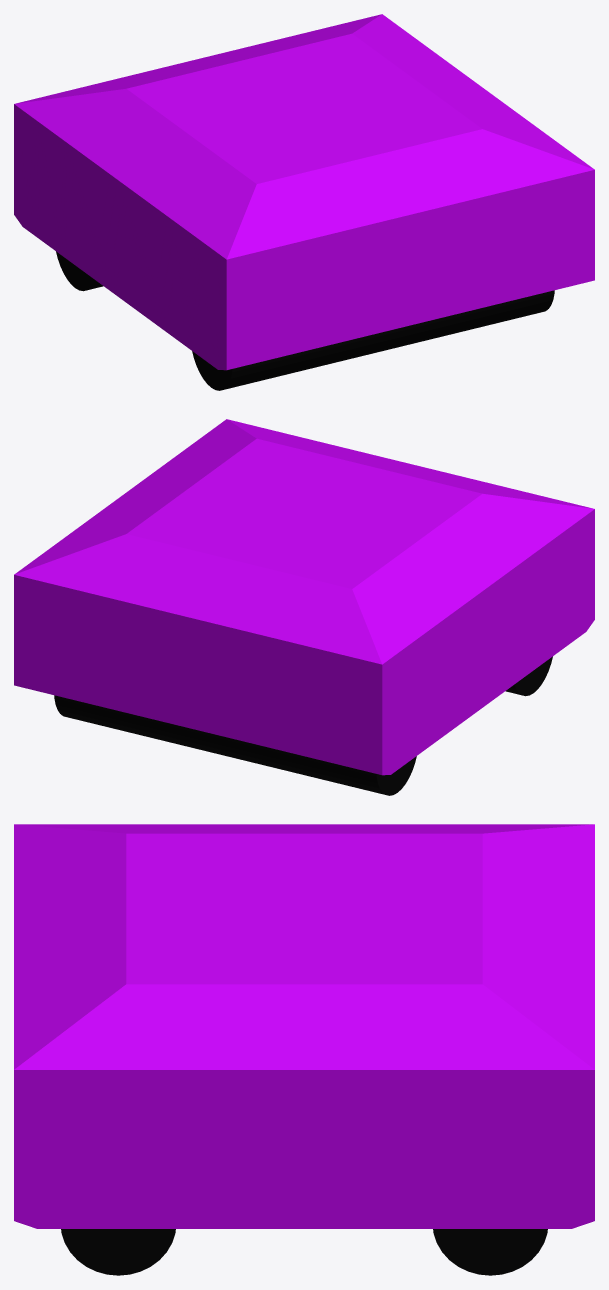
The model's file is TANK_BODY.fbx.
3 renders of one model, top to bottom at view 1: azimuth 30°, elevation 25°; view 2: azimuth 150°, elevation 25°; view 3: azimuth 270°, elevation 25°, orthographic. The views are drawn at different scales.
Parts seen in each view (by area): view 1: Cube, Cylinder; view 2: Cube, Cylinder; view 3: Cube, Cylinder.
Part boxes in pixels (x1,y1,x2,y2): Cube: (14,14,594,370); Cylinder: (56,251,554,390); Cube: (14,419,594,775); Cylinder: (54,656,552,795); Cube: (14,824,594,1228); Cylinder: (61,1229,547,1275).
Size of the model in its own units: 400 by 197 by 400.
